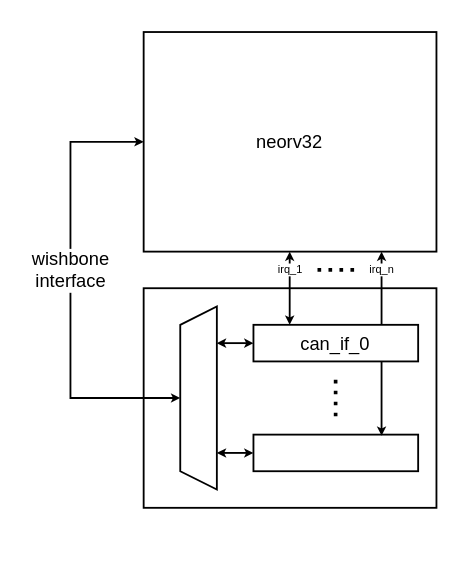
Image size: 468x565. Some labels were removed from this diagram. The shapes that lost their labels are listed below. From the top down, each one's box as (x1, y1, x2, y2) in pixels, then its label:
(142, 286, 436, 508): can-module
(252, 433, 418, 471): can_if_n
